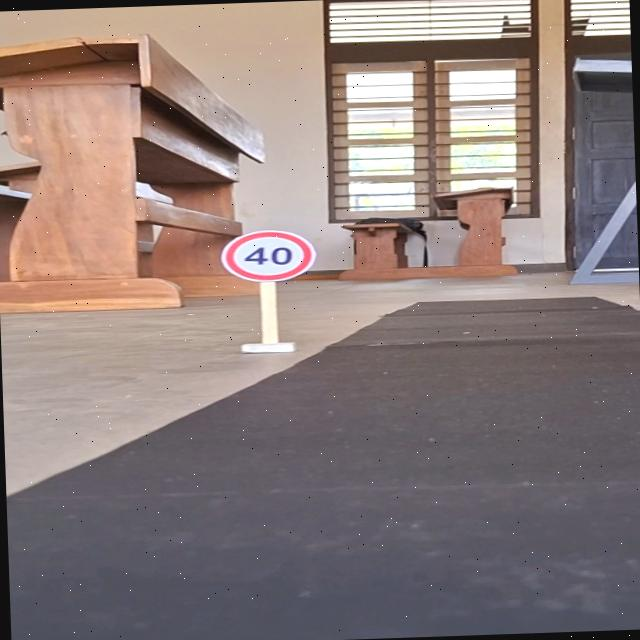Speed40: (213, 223, 324, 291)
